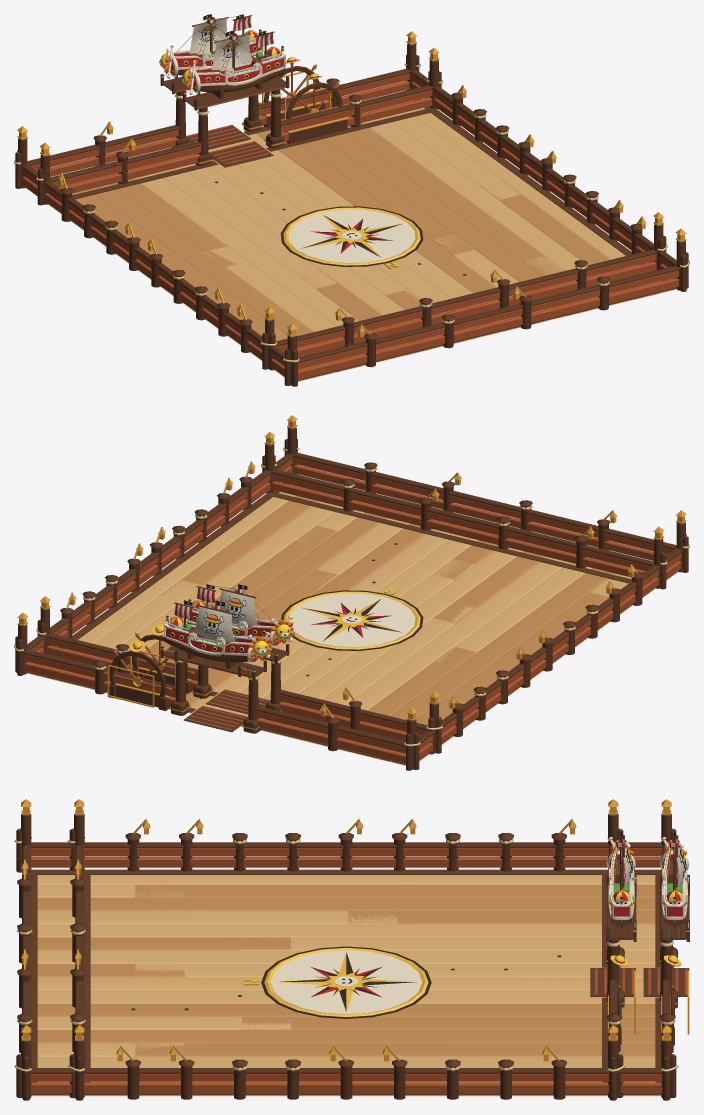
Rendered from SunnyPirateWharf.fbx.
The picture shows the model from 3 angles, top to bottom: view 1: azimuth 30°, elevation 25°; view 2: azimuth 150°, elevation 25°; view 3: azimuth 270°, elevation 25°; orthographic projection. The views are drawn at different scales.
Parts seen in each view (by area): view 1: Deep_Floor_Base.001, Std_Floor_Base.001, Deep_Floor_Teak.001, Std_Floor_Teak.001, Deep_Structure_Plank.001, Deep_Structure_Wood.001, Std_Structure_Plank.001, Std_Structure_Wood.001, Deep_Core_3D_Ivory.001, Std_Floor_Dark.001, Deep_Floor_Dark.001, Deep_Core_3D_Gold.001 (+9 smaller); view 2: Deep_Floor_Base.001, Deep_Floor_Teak.001, Std_Floor_Base.001, Deep_Structure_Wood.001, Std_Structure_Plank.001, Deep_Structure_Plank.001, Std_Floor_Teak.001, Std_Structure_Wood.001, Deep_Core_3D_Ivory.001, Std_Floor_Dark.001, Deep_Floor_Dark.001, Deep_Core_3D_Gold.001 (+9 smaller); view 3: Deep_Floor_Teak.001, Deep_Floor_Base.001, Std_Floor_Base.001, Deep_Structure_Plank.001, Deep_Structure_Wood.001, Std_Floor_Teak.001, Std_Structure_Wood.001, Std_Structure_Plank.001, Deep_Floor_Dark.001, Deep_Core_3D_Ivory.001, Std_Floor_Dark.001, Deep_Core_3D_Gold.001 (+8 smaller).
Boxes of the visible parts, <box> form: Deep_Floor_Base.001: <box>26,100,676,381</box>; Std_Floor_Base.001: <box>53,113,624,351</box>; Deep_Floor_Teak.001: <box>59,116,656,371</box>; Std_Floor_Teak.001: <box>76,128,610,334</box>; Deep_Structure_Plank.001: <box>22,62,678,379</box>; Deep_Structure_Wood.001: <box>15,44,688,386</box>; Std_Structure_Plank.001: <box>45,79,656,359</box>; Std_Structure_Wood.001: <box>37,60,666,370</box>; Deep_Core_3D_Ivory.001: <box>288,209,415,263</box>; Std_Floor_Dark.001: <box>48,109,648,357</box>; Deep_Floor_Dark.001: <box>26,98,676,380</box>; Deep_Core_3D_Gold.001: <box>283,57,420,269</box>; Deep_Floor_Base.001: <box>27,484,677,765</box>; Deep_Floor_Teak.001: <box>92,488,624,761</box>; Std_Floor_Base.001: <box>65,497,655,727</box>; Deep_Structure_Wood.001: <box>15,428,688,770</box>; Std_Structure_Plank.001: <box>47,474,658,742</box>; Deep_Structure_Plank.001: <box>25,457,681,763</box>; Std_Floor_Teak.001: <box>144,501,607,731</box>; Std_Structure_Wood.001: <box>37,444,666,754</box>; Deep_Core_3D_Ivory.001: <box>289,593,415,647</box>; Std_Floor_Dark.001: <box>55,492,655,742</box>; Deep_Floor_Dark.001: <box>27,482,677,764</box>; Deep_Core_3D_Gold.001: <box>129,587,420,652</box>; Deep_Floor_Teak.001: <box>37,884,655,1082</box>; Deep_Floor_Base.001: <box>31,875,661,1096</box>; Std_Floor_Base.001: <box>87,875,607,1096</box>; Deep_Structure_Plank.001: <box>30,848,687,1092</box>; Deep_Structure_Wood.001: <box>16,814,689,1100</box>; Std_Floor_Teak.001: <box>90,884,601,1082</box>; Std_Structure_Wood.001: <box>69,814,636,1100</box>; Std_Structure_Plank.001: <box>83,848,634,1092</box>; Deep_Floor_Dark.001: <box>30,869,689,1095</box>; Deep_Core_3D_Ivory.001: <box>270,950,422,1014</box>; Std_Floor_Dark.001: <box>83,869,635,1095</box>; Deep_Core_3D_Gold.001: <box>244,947,681,1017</box>.
Size of the model in its own units: 55.04 by 15.9 by 66.65.
